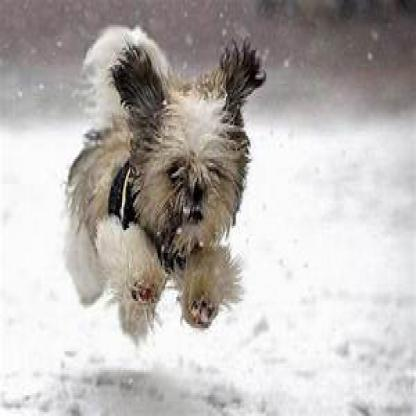dog: (61, 40, 266, 328)
